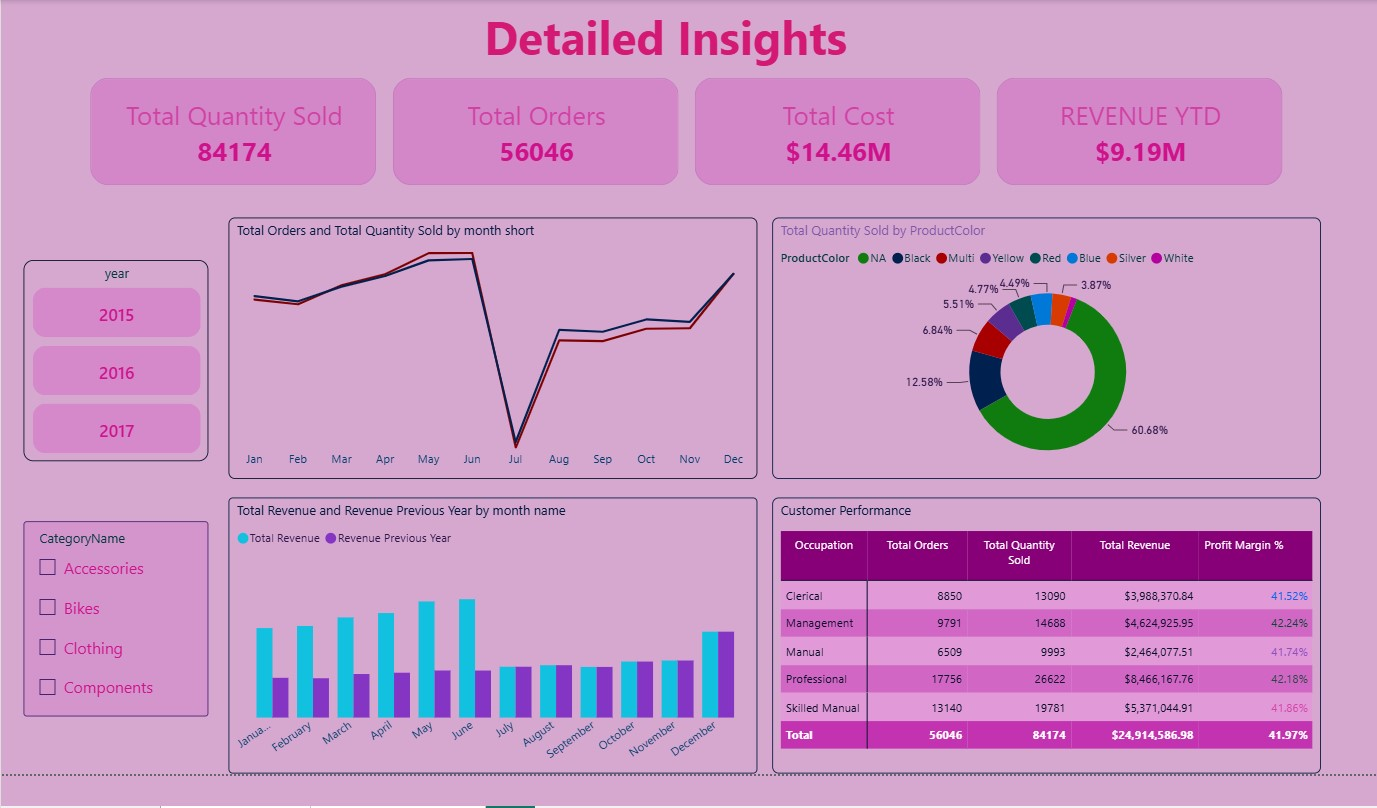

What the dashboard file says about the page in this screenshot:
{"tool":"powerbi","page":{"name":"Customer Analysis","canvas":[1280,720],"ordinal":1},"visuals":[{"type":"cardVisual","fields":{"Data":["_measures.Total Quantity Sold","_measures.Total Orders","_measures.Total Cost","_measures.REVENUE YTD"]},"box":[126.7,90.7,1020.9,111],"z":1},{"type":"lineChart","fields":{"Y":["_measures.Total Orders"],"Category":["Dim_Date.month-year"],"Y2":["_measures.Total Quantity Sold"]},"box":[211.6,225.6,491.9,219.8],"z":2},{"type":"advancedSlicerVisual","fields":{"Values":["Dim_Date.year"]},"box":[20.9,241.9,172.1,187.2],"z":3},{"type":"clusteredColumnChart","fields":{"Category":["Dim_Date.month name"],"Y":["_measures.Total Revenue","_measures.Revenue Previous Year"]},"box":[211.6,462.8,491.9,257],"z":5},{"type":"pivotTable","title":"Customer Performance","fields":{"Values":["_measures.Total Orders","_measures.Total Quantity Sold","_measures.Total Revenue","_measures.Profit Margin %"],"Rows":["Customers.Occupation","Customers.EducationLevel"]},"box":[717.4,490.7,553.5,229.1],"z":6},{"type":"slicer","fields":{"Values":["Products.CategoryName"]},"box":[20.9,484.9,172.1,164],"z":7},{"type":"textbox","box":[126.7,11.6,898.8,67.4],"z":8},{"type":"donutChart","fields":{"Category":["Products.ProductColor"],"Y":["_measures.Total Quantity Sold"]},"box":[764,200,464,272.1],"z":9}]}

Visuals, with their boxes on the page's 1280x720 design canvas (x1, y1, x2, y2). These are canvas units, not pixel positions in the 1377x808 screenshot, which may show the page scaled, cropped or inside an application window:
cardVisual - _measures.Total Quantity Sold x _measures.Total Orders: [127, 91, 1148, 202]
lineChart - _measures.Total Orders x Dim_Date.month-year: [212, 226, 704, 445]
advancedSlicerVisual - Dim_Date.year: [21, 242, 193, 429]
clusteredColumnChart - Dim_Date.month name x _measures.Total Revenue: [212, 463, 704, 720]
"Customer Performance" pivotTable: [717, 491, 1271, 720]
slicer - Products.CategoryName: [21, 485, 193, 649]
textbox: [127, 12, 1026, 79]
donutChart - Products.ProductColor x _measures.Total Quantity Sold: [764, 200, 1228, 472]
